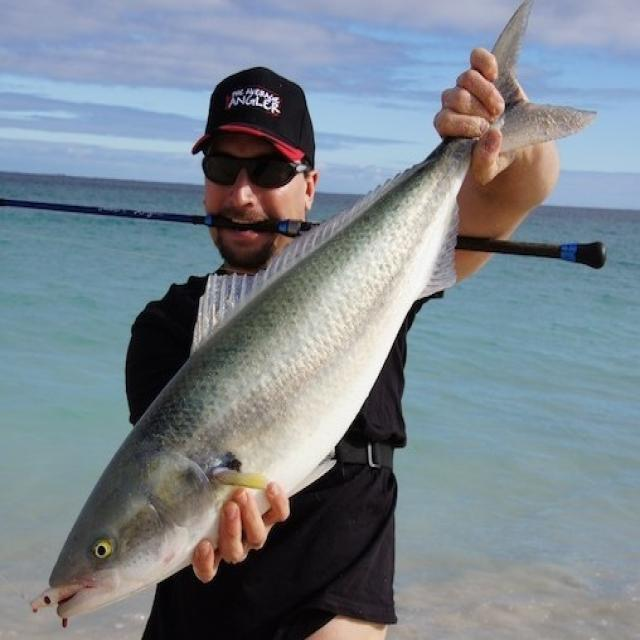Australian Salmon: (43, 0, 602, 632)
